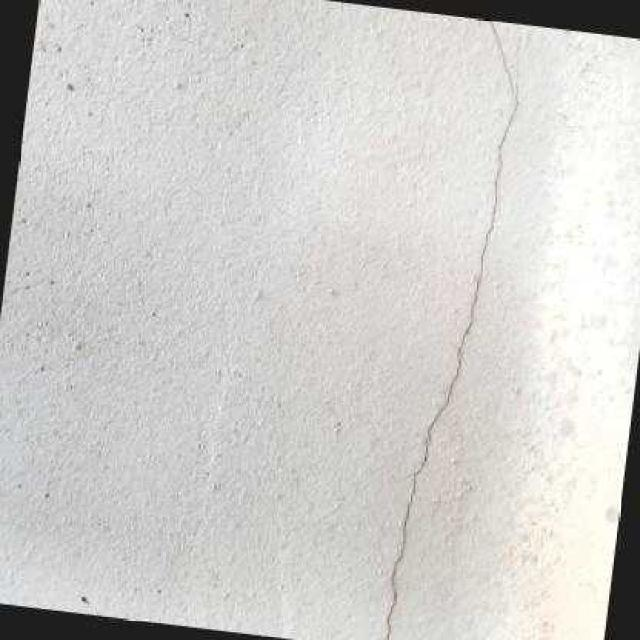D00: (473, 44, 517, 301), (401, 350, 460, 534), (487, 18, 514, 98), (456, 298, 473, 357), (390, 542, 403, 588), (385, 585, 394, 640), (398, 532, 404, 548)
